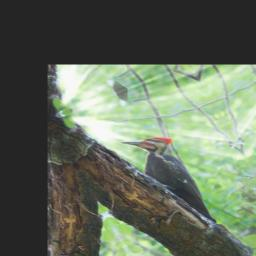Woodpecker: (119, 125, 223, 239)
